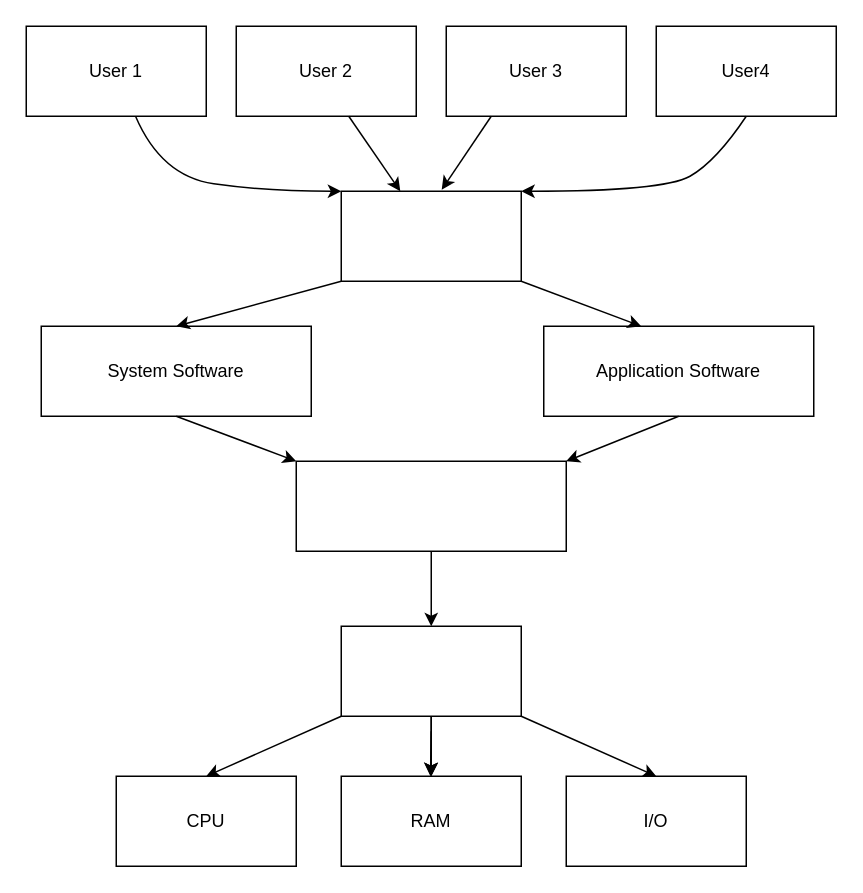
Image size: 863x893. Some labels were removed from this diagram. The box of each missing label's shape, as (x1, y1, x2, y2) in pixels:
Hardware: (340, 625, 521, 716)
Operating System: (295, 460, 566, 551)
Software: (340, 190, 521, 281)
